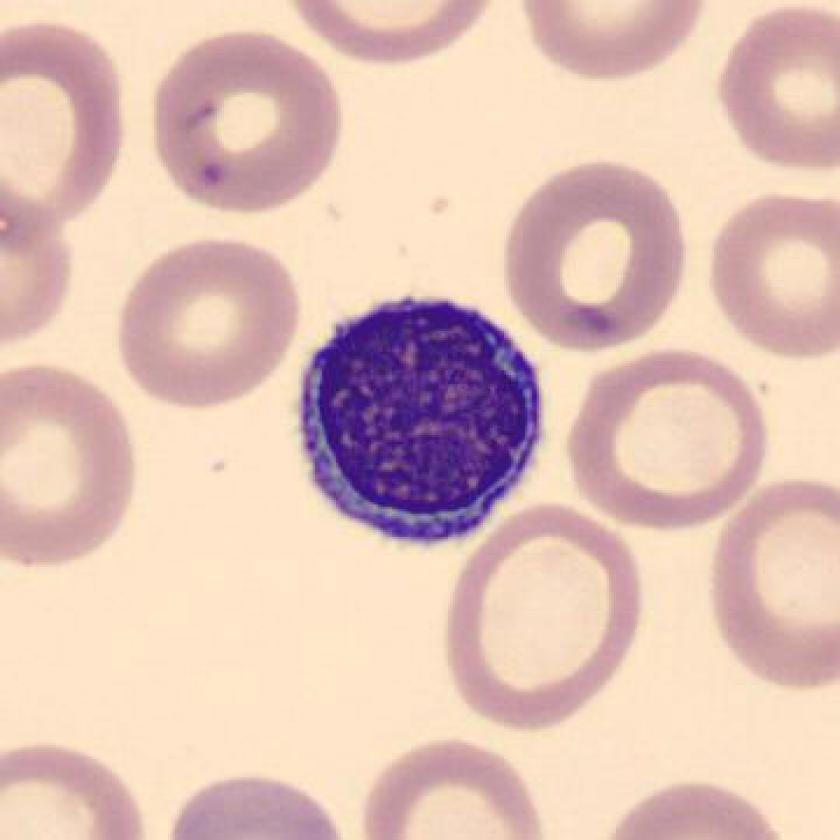lymphocyte: (293, 281, 566, 561)
